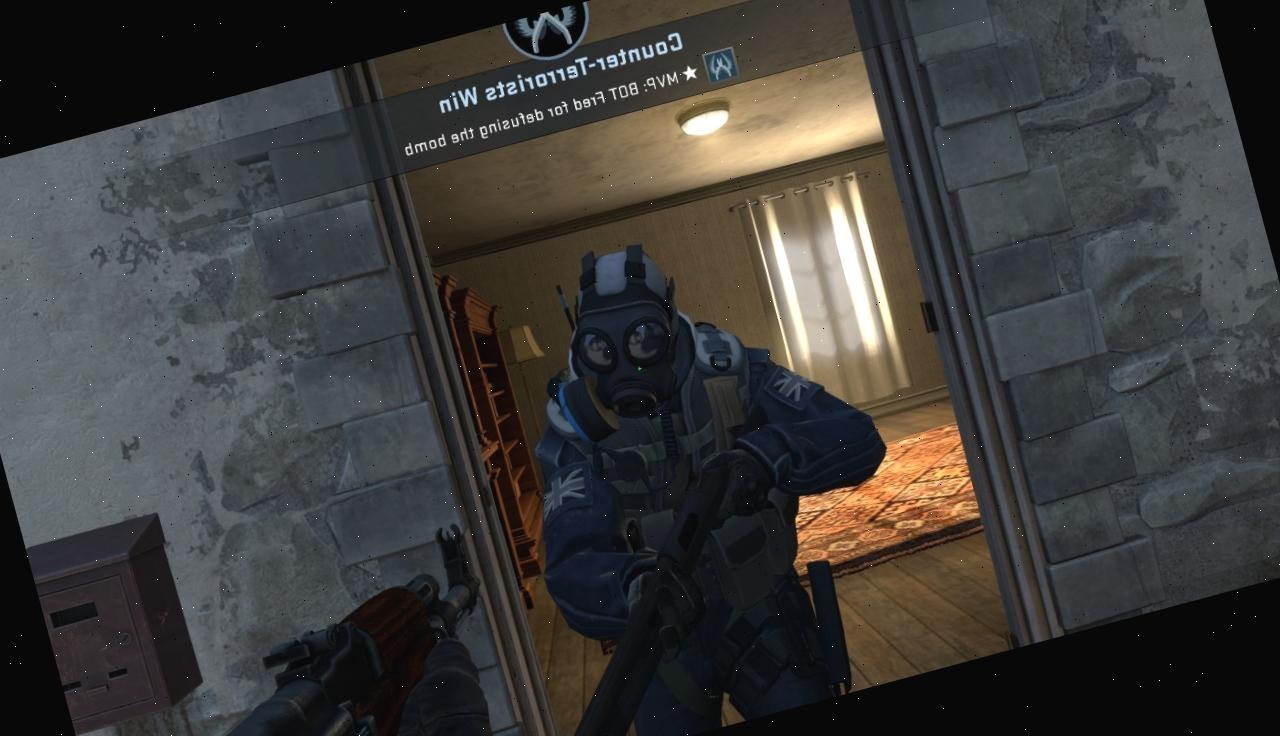ct: (465, 202, 899, 736)
cthead: (553, 238, 704, 424)
rifle: (48, 520, 534, 736)
